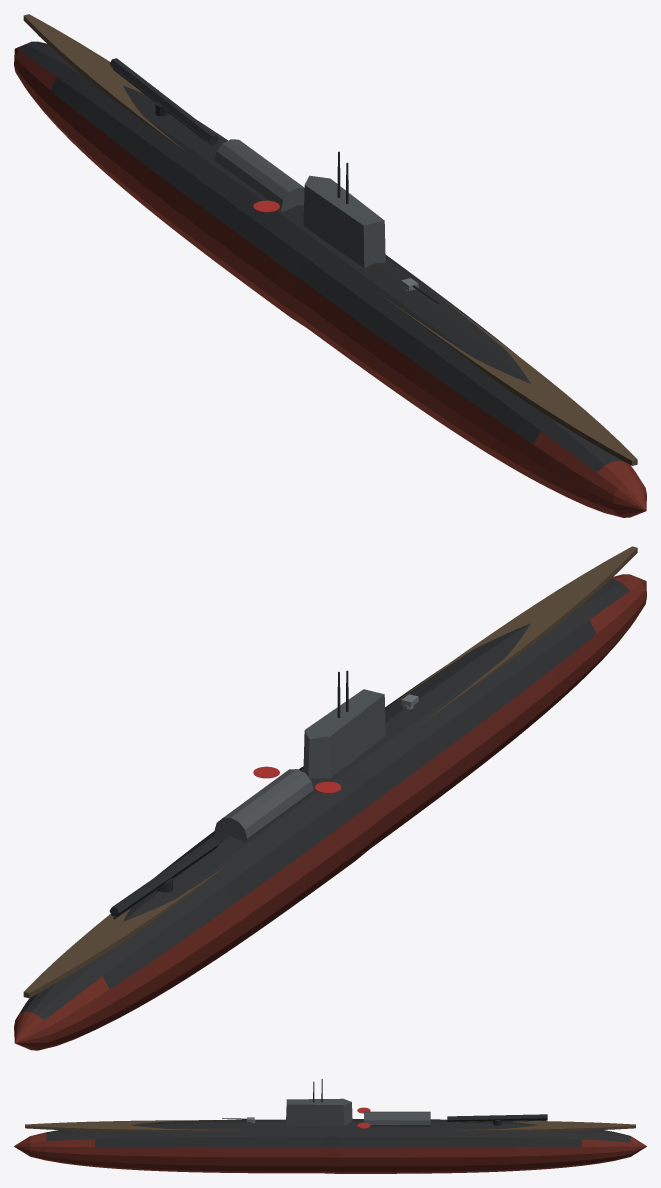
Rendered from i_boat.glb.
The picture shows the model from 3 angles, top to bottom: view 1: azimuth 30°, elevation 25°; view 2: azimuth 150°, elevation 25°; view 3: azimuth 270°, elevation 25°; orthographic projection. The views are drawn at different scales.
Visible parts, largest first — view 1: Hull; view 2: Hull; view 3: Hull.
Part boxes in pixels (<box>): Hull: <box>14,14,646,517</box>; Hull: <box>14,546,646,1050</box>; Hull: <box>14,1079,646,1173</box>.
Size of the model in its own units: 9.5 by 18.3 by 114.
